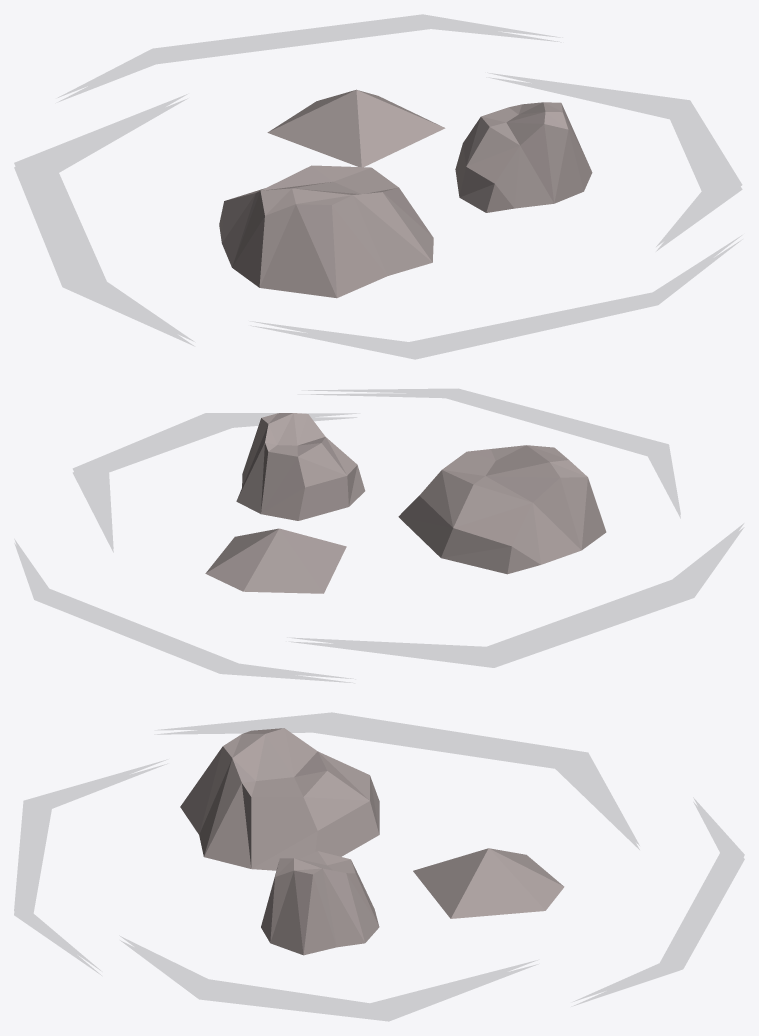
The picture shows the model from 3 angles, top to bottom: view 1: azimuth 30°, elevation 25°; view 2: azimuth 150°, elevation 25°; view 3: azimuth 270°, elevation 25°; orthographic projection. The views are drawn at different scales.
Bounding box in the file's own units: 152 × 17 × 154.
1 material, 1 textured.
